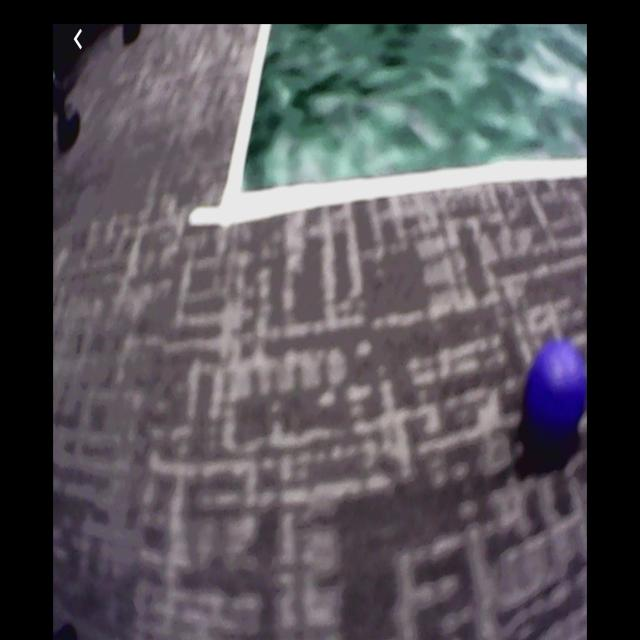ball: (527, 342, 586, 443)
